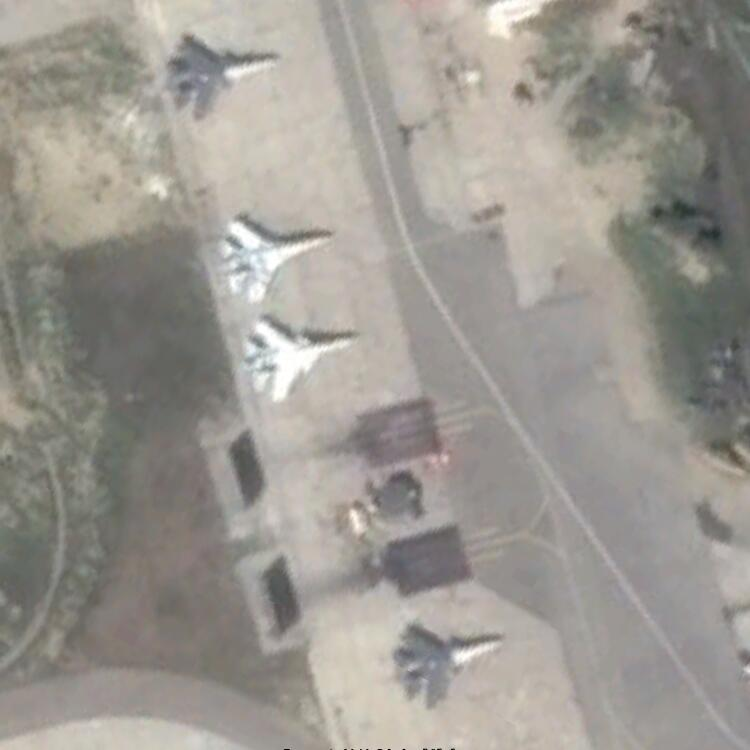A1: (212, 212, 334, 302)
A19: (157, 35, 282, 121), (391, 617, 504, 712), (240, 312, 356, 404)
